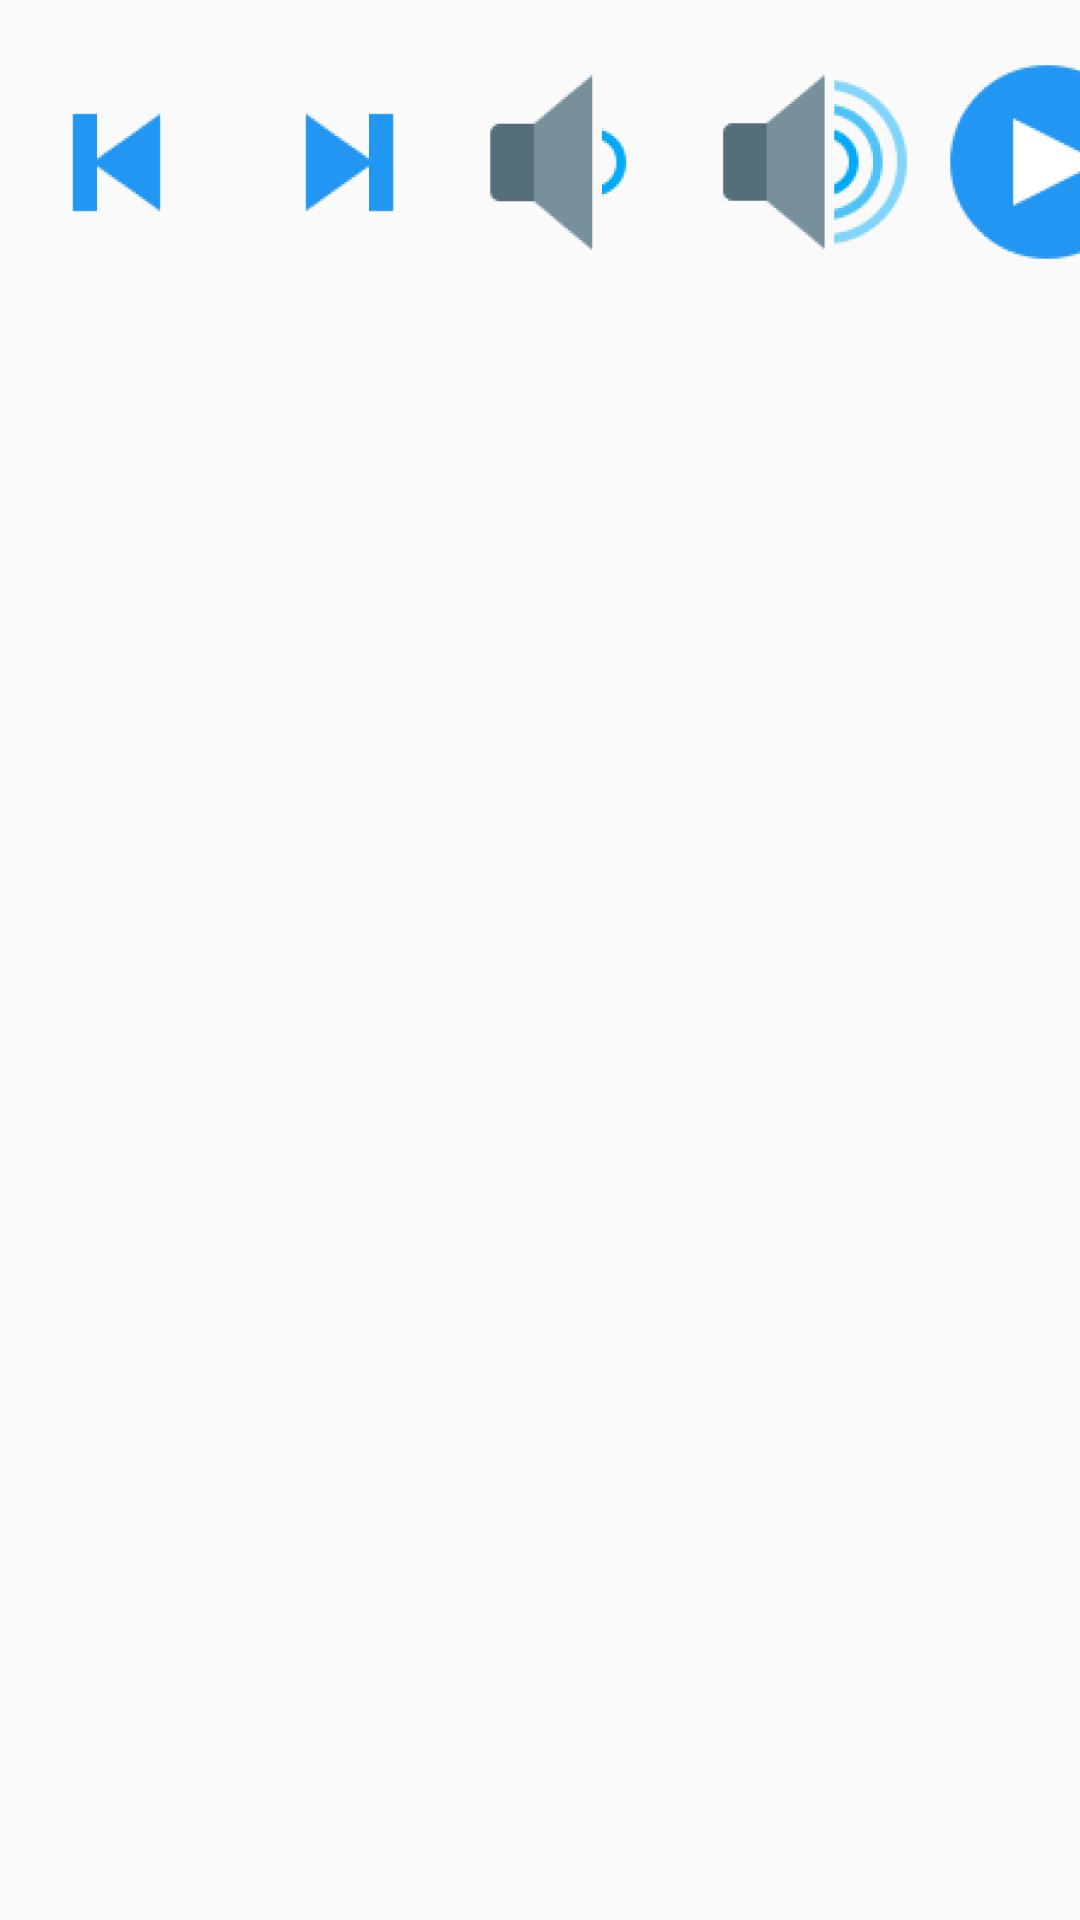

Icon bounding boxes for this 1080px x 1920px phone screenshot, format {"x1": x1, "y1": y1, "x2": x2, "y2": y2}:
last: {"x1": 72, "y1": 113, "x2": 161, "y2": 212}
next: {"x1": 305, "y1": 113, "x2": 394, "y2": 212}
volume down: {"x1": 490, "y1": 75, "x2": 627, "y2": 250}
volume up: {"x1": 723, "y1": 75, "x2": 907, "y2": 249}
